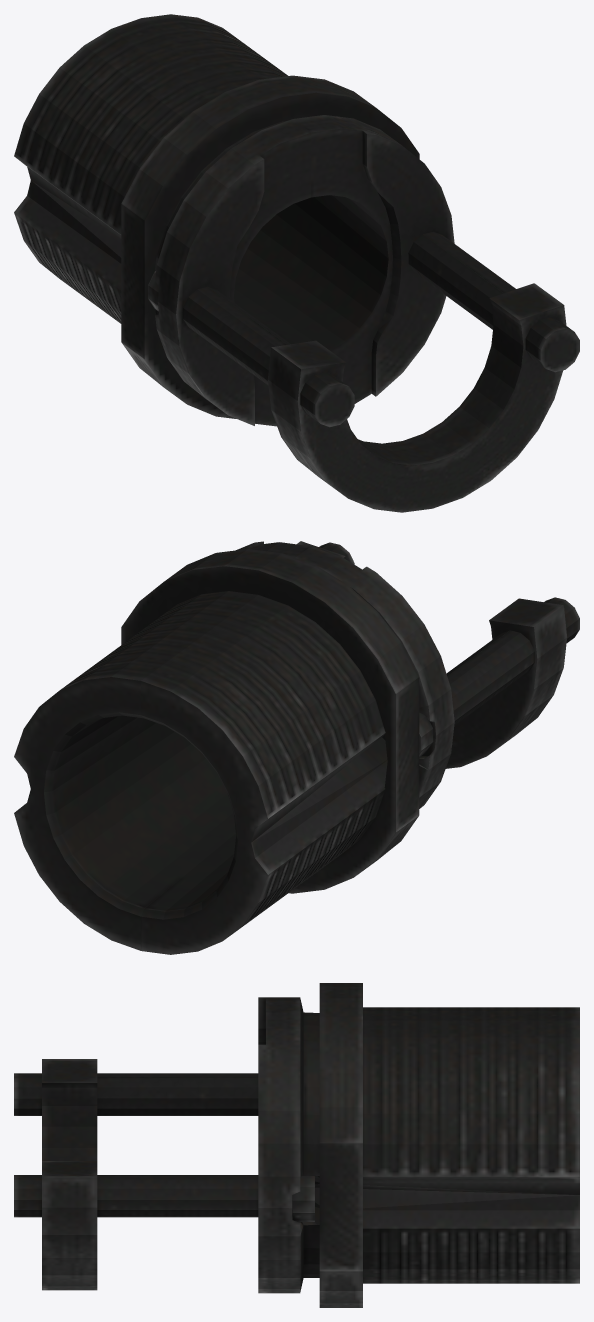
3 renders of one model, top to bottom at view 1: azimuth 30°, elevation 25°; view 2: azimuth 150°, elevation 25°; view 3: azimuth 270°, elevation 25°, orthographic. The views are drawn at different scales.
Parts seen in each view (by area): view 1: TW_5cf67cadd7f00c065a5abab7_PZ_Import; view 2: TW_5cf67cadd7f00c065a5abab7_PZ_Import; view 3: TW_5cf67cadd7f00c065a5abab7_PZ_Import.
Boxes of the visible parts, box(x1,y1,x2,y2) form: TW_5cf67cadd7f00c065a5abab7_PZ_Import: box(14, 14, 579, 512); TW_5cf67cadd7f00c065a5abab7_PZ_Import: box(14, 541, 579, 954); TW_5cf67cadd7f00c065a5abab7_PZ_Import: box(14, 983, 579, 1307).
Bounding box in the file's own units: 0.0143 × 0.0272 × 0.0156.
Materials: 1 (1 with a texture image).
